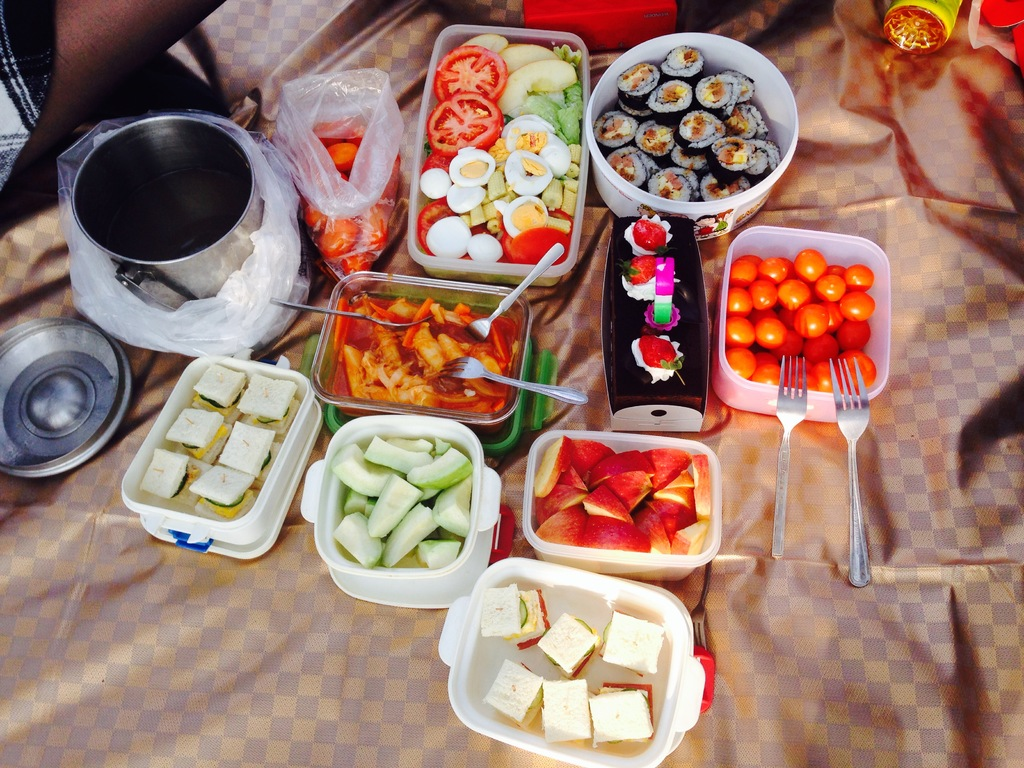Tomato: (727, 238, 874, 375)
